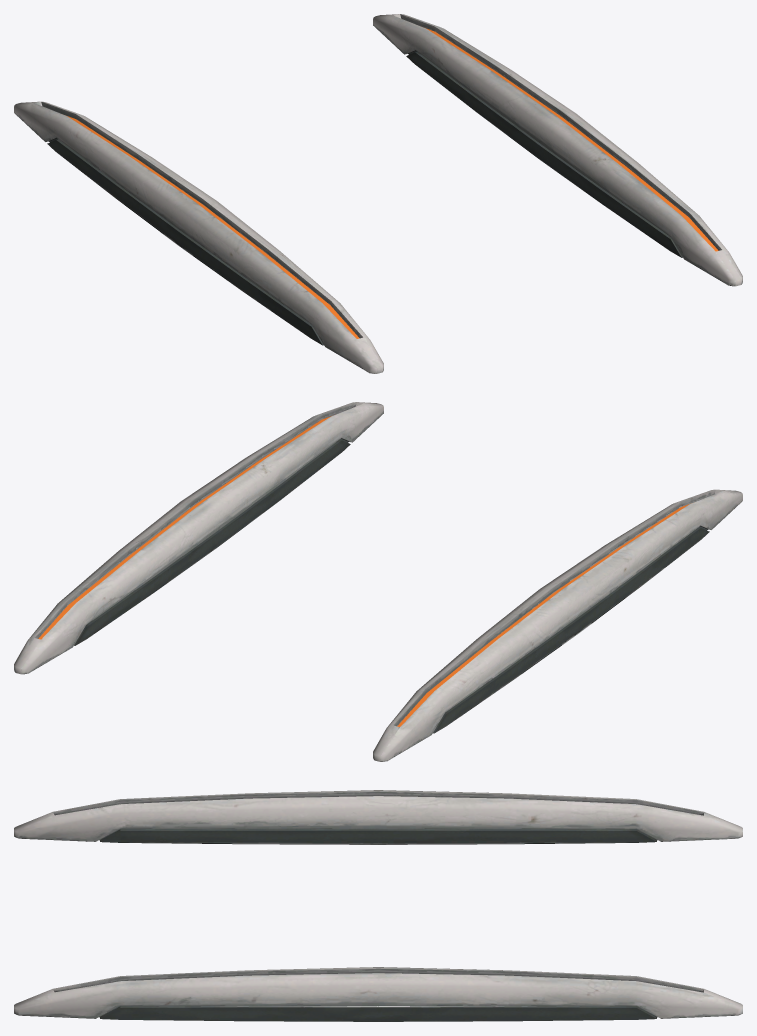
File: portal_0.glb
3 views of the same model, one above another, from view 1: azimuth 30°, elevation 25°; view 2: azimuth 150°, elevation 25°; view 3: azimuth 270°, elevation 25° (orthographic).
Visible parts, largest first — view 1: static_prop_34|autoportal_frame_parts\obj\autoportal_frame.; view 2: static_prop_34|autoportal_frame_parts\obj\autoportal_frame.; view 3: static_prop_34|autoportal_frame_parts\obj\autoportal_frame..
Part boxes in pixels (x1,y1,x2,y2): static_prop_34|autoportal_frame_parts\obj\autoportal_frame.: [14, 14, 742, 373]; static_prop_34|autoportal_frame_parts\obj\autoportal_frame.: [14, 402, 742, 761]; static_prop_34|autoportal_frame_parts\obj\autoportal_frame.: [14, 790, 742, 1021].
Bounding box in the file's own units: 1.28 × 0.125 × 2.
Materials: 1 (1 with a texture image).
